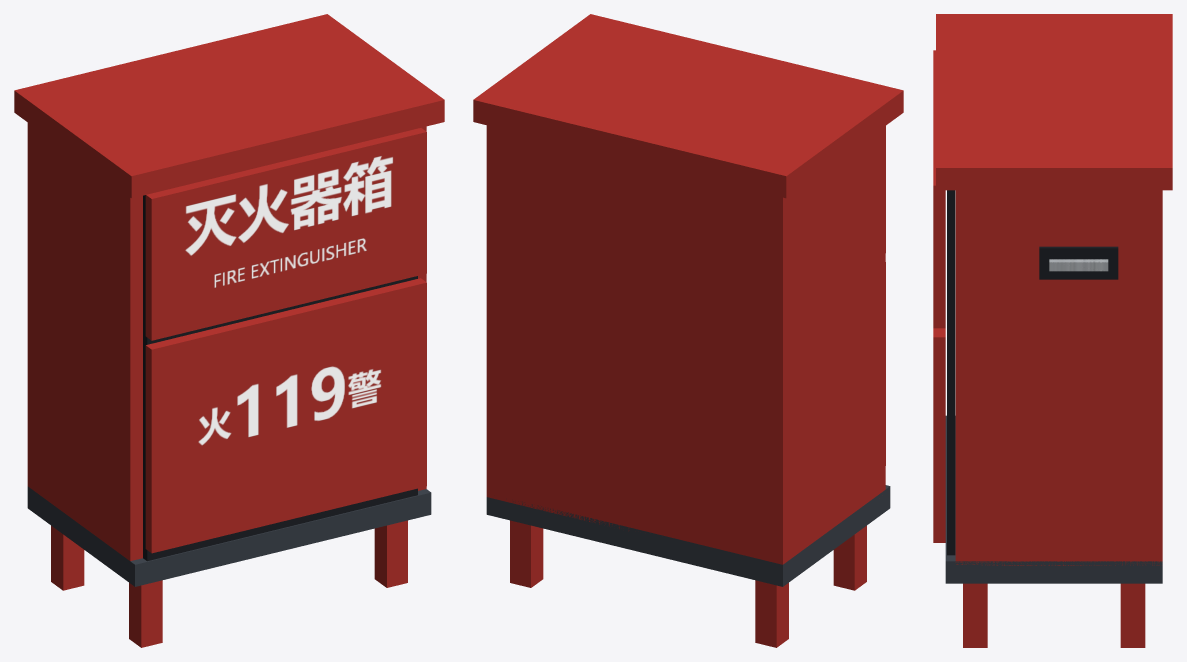
Rendered from extinguisher.glb.
3 views of the same model, side by side, from view 1: azimuth 30°, elevation 25°; view 2: azimuth 150°, elevation 25°; view 3: azimuth 270°, elevation 25° (orthographic).
Visible parts, largest first — view 1: Extinguisher; view 2: Extinguisher; view 3: Extinguisher.
Part boxes in pixels (x1,y1,x2,y2): Extinguisher: [14, 14, 444, 647]; Extinguisher: [473, 14, 903, 647]; Extinguisher: [933, 14, 1172, 647].
Size of the model in its own units: 0.7425 by 1.1 by 0.487.
Materials: 5 (2 with a texture image).
